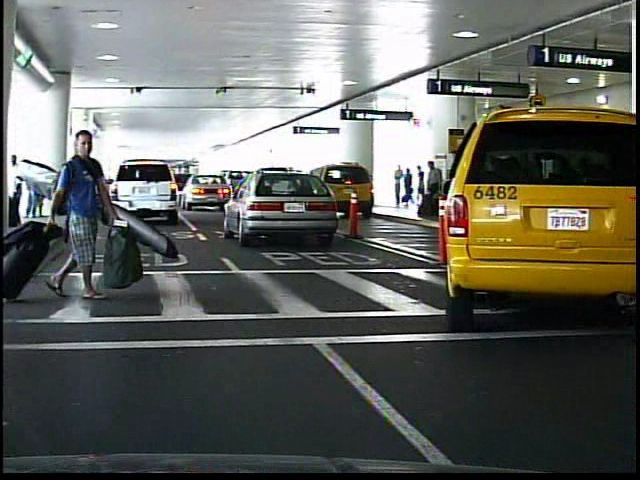person: (53, 120, 118, 315), (420, 160, 441, 218), (391, 165, 403, 208), (403, 166, 413, 209)
